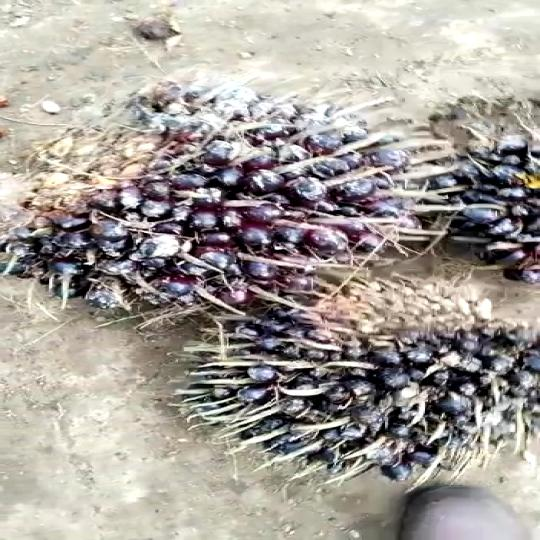mentah: (0, 78, 448, 325), (174, 280, 540, 495)
